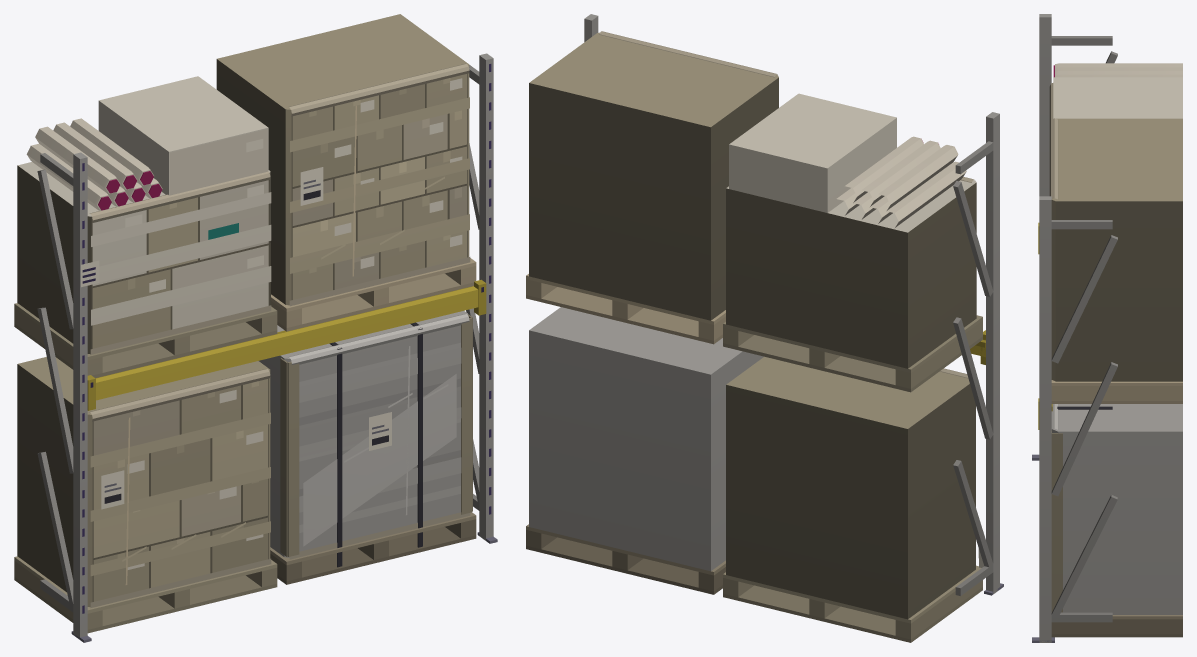
Rendered from wrapped_racking.glb.
3 renders of one model, left to right at view 1: azimuth 30°, elevation 25°; view 2: azimuth 150°, elevation 25°; view 3: azimuth 270°, elevation 25°, orthographic. The views are drawn at different scales.
Parts seen in each view (by area): view 1: wrapped_racking; view 2: wrapped_racking; view 3: wrapped_racking.
Part boxes in pixels (x1,y1,x2,y2): wrapped_racking: [14, 14, 497, 642]; wrapped_racking: [526, 14, 1003, 642]; wrapped_racking: [1032, 14, 1182, 642].
Size of the model in its own units: 2.7 by 3 by 0.925.
